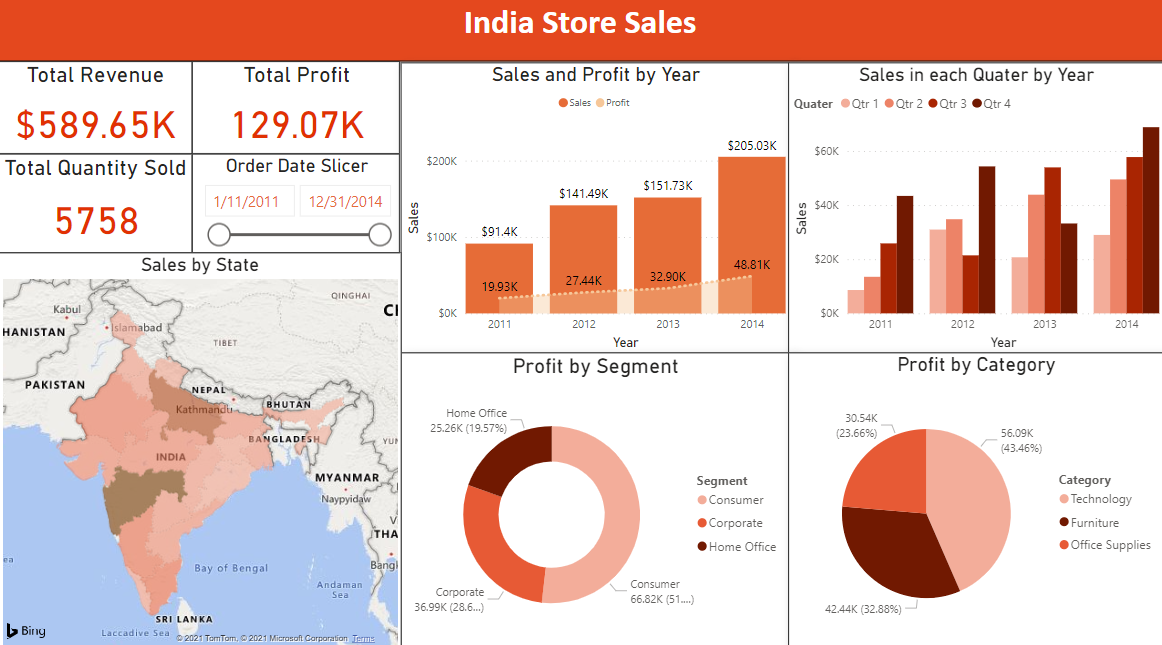

This screenshot's page, from the dashboard's own definition file:
{"tool":"powerbi","page":{"name":"Overall Sales","canvas":[1280,720],"ordinal":0},"visuals":[{"type":"textbox","box":[0,0,1280,72.8],"z":0},{"type":"card","title":"Total Revenue","fields":{"Values":["Sum(Orders.Sales)"]},"box":[0,72.9,214.5,101.7],"z":1000},{"type":"card","title":"Total Quantity Sold","fields":{"Values":["Sum(Orders.Quantity)"]},"box":[0,174.6,214.5,108.6],"z":2000},{"type":"card","title":"Total Profit","fields":{"Values":["Sum(Orders.Profit)"]},"box":[214.5,72.9,228.2,101.7],"z":3000},{"type":"slicer","title":"Order Date Slicer","fields":{"Values":["Orders.Order Date"]},"box":[214.5,174.6,228.2,108.6],"z":4000},{"type":"lineStackedColumnComboChart","fields":{"Y":["Sum(Orders.Sales)"],"Y2":["Sum(Orders.Profit)"],"Category":["Orders.Order Date.Variation.Date Hierarchy.Year","Orders.Order Date.Variation.Date Hierarchy.Quarter","Orders.Order Date.Variation.Date Hierarchy.Month","Orders.Order Date.Variation.Date Hierarchy.Day"]},"box":[442.7,74.2,426.2,319],"z":5000},{"type":"clusteredColumnChart","title":"Sales in each Quater by Year","fields":{"Category":["Orders.Order Date.Variation.Date Hierarchy.Year"],"Series":["Orders.Quater"],"Y":["Sum(Orders.Sales)"]},"box":[868.9,74.2,411.1,319],"z":6000},{"type":"donutChart","fields":{"Category":["Orders.Segment"],"Y":["Sum(Orders.Profit)"]},"box":[443,393,426,327],"z":7000},{"type":"pieChart","fields":{"Category":["Orders.Category"],"Y":["Sum(Orders.Profit)"]},"box":[869,393,411,327],"z":8000},{"type":"filledMap","fields":{"Category":["Orders.State"]},"box":[0,282.9,443.6,436.7],"z":9000}]}

Visuals, with their boxes in screenshot pixels (x1, y1, x2, y2), scaled from the page's 1280x720 canvas onto the 1162x645 screenshot:
textbox: <region>0, 0, 1161, 65</region>
"Total Revenue" card: <region>0, 65, 195, 156</region>
"Total Quantity Sold" card: <region>0, 156, 195, 254</region>
"Total Profit" card: <region>195, 65, 402, 156</region>
"Order Date Slicer" slicer: <region>195, 156, 402, 254</region>
lineStackedColumnComboChart - Sum(Orders.Sales) x Sum(Orders.Profit): <region>402, 66, 789, 352</region>
"Sales in each Quater by Year" clusteredColumnChart: <region>789, 66, 1161, 352</region>
donutChart - Orders.Segment x Sum(Orders.Profit): <region>402, 352, 789, 644</region>
pieChart - Orders.Category x Sum(Orders.Profit): <region>789, 352, 1161, 644</region>
filledMap - Orders.State: <region>0, 253, 403, 644</region>
